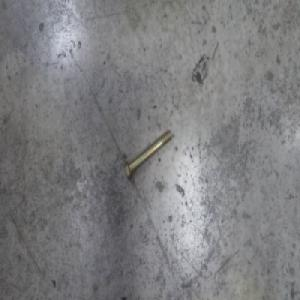Bolt: (122, 126, 172, 184)
